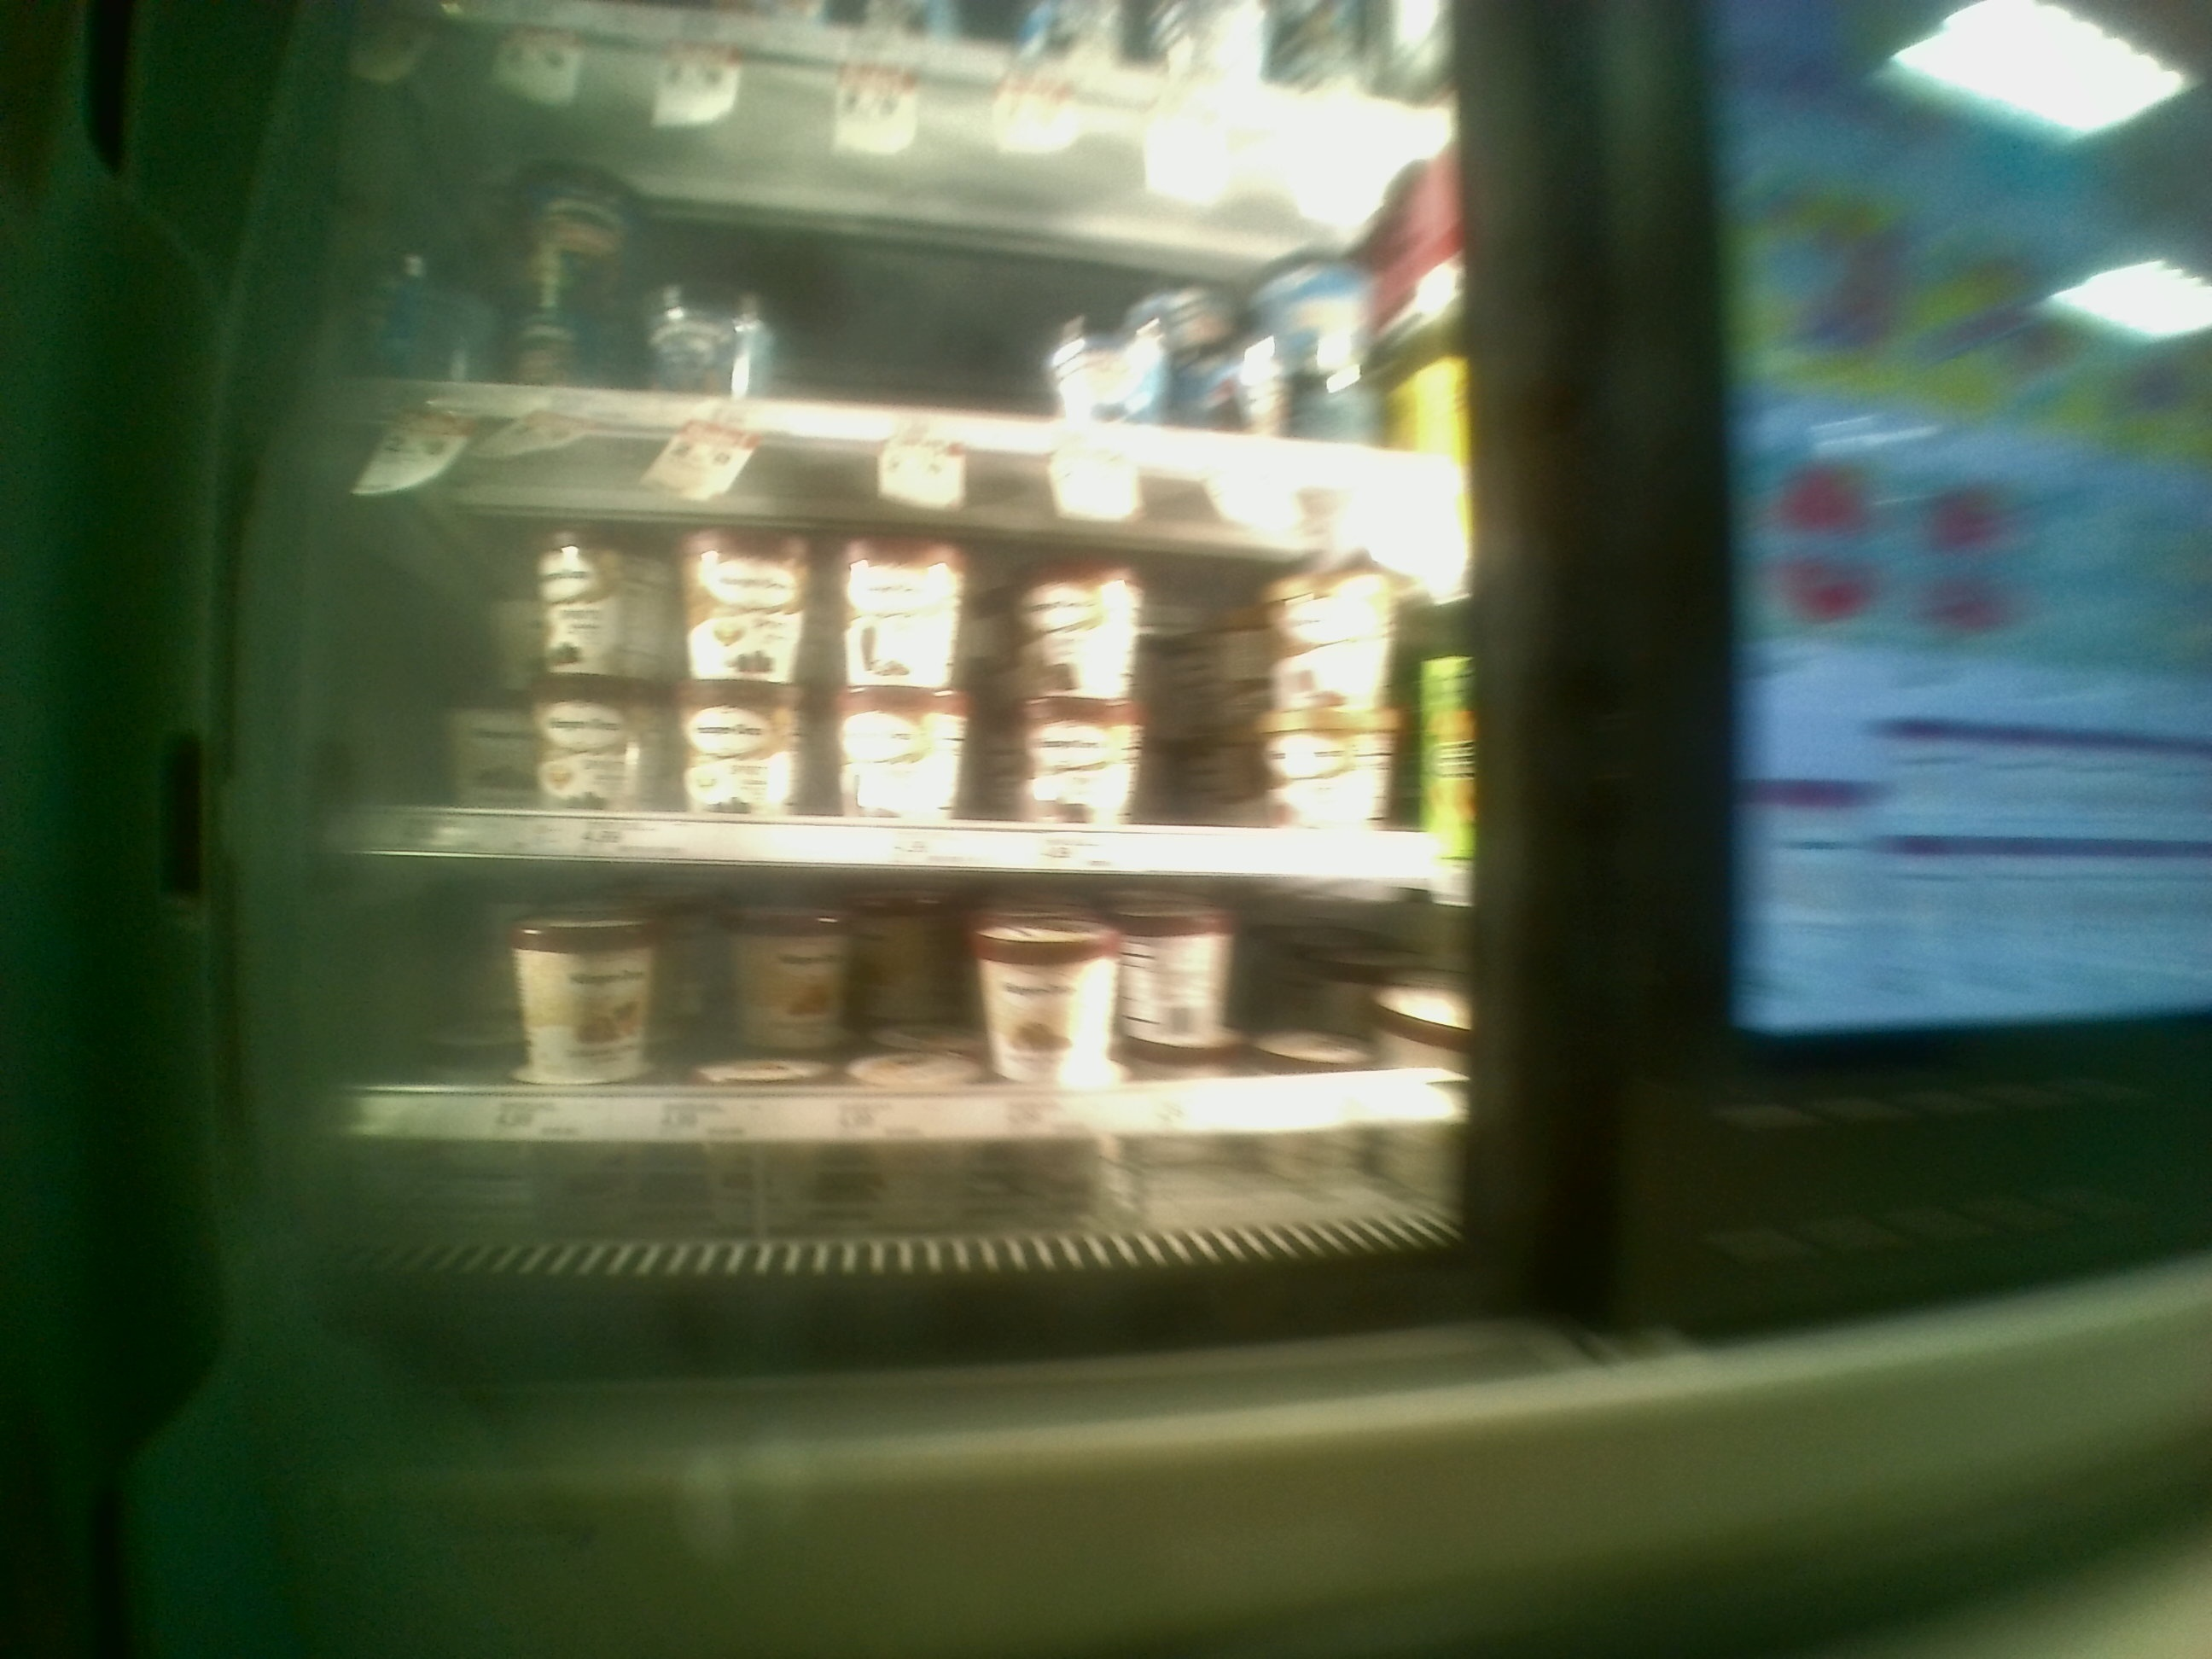shelf: (334, 416, 1470, 863), (347, 857, 1468, 1208)
